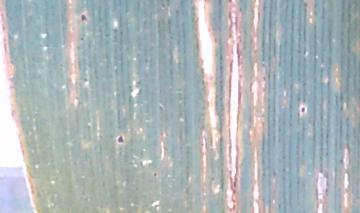tarspot: (115, 133, 127, 145), (79, 12, 88, 22), (298, 106, 306, 114), (198, 140, 206, 147), (303, 1, 309, 9), (152, 172, 159, 178), (83, 77, 89, 82), (80, 35, 85, 40)
